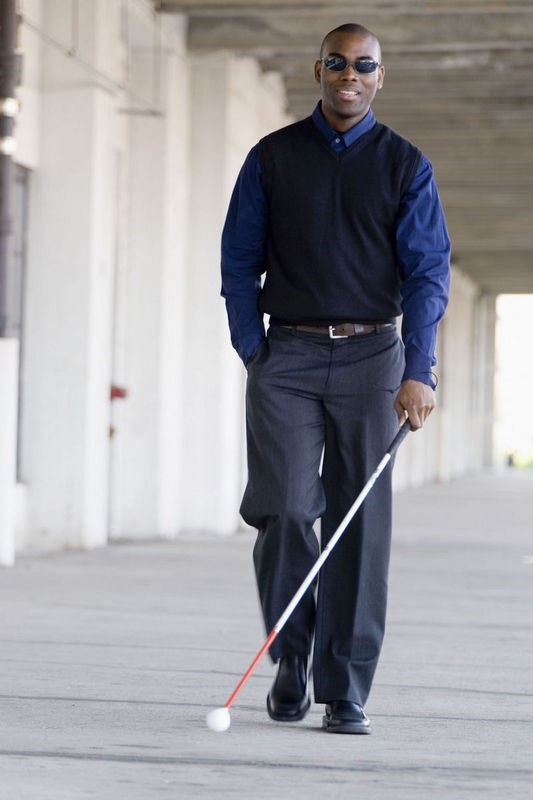face_no_mask: (311, 22, 383, 121)
